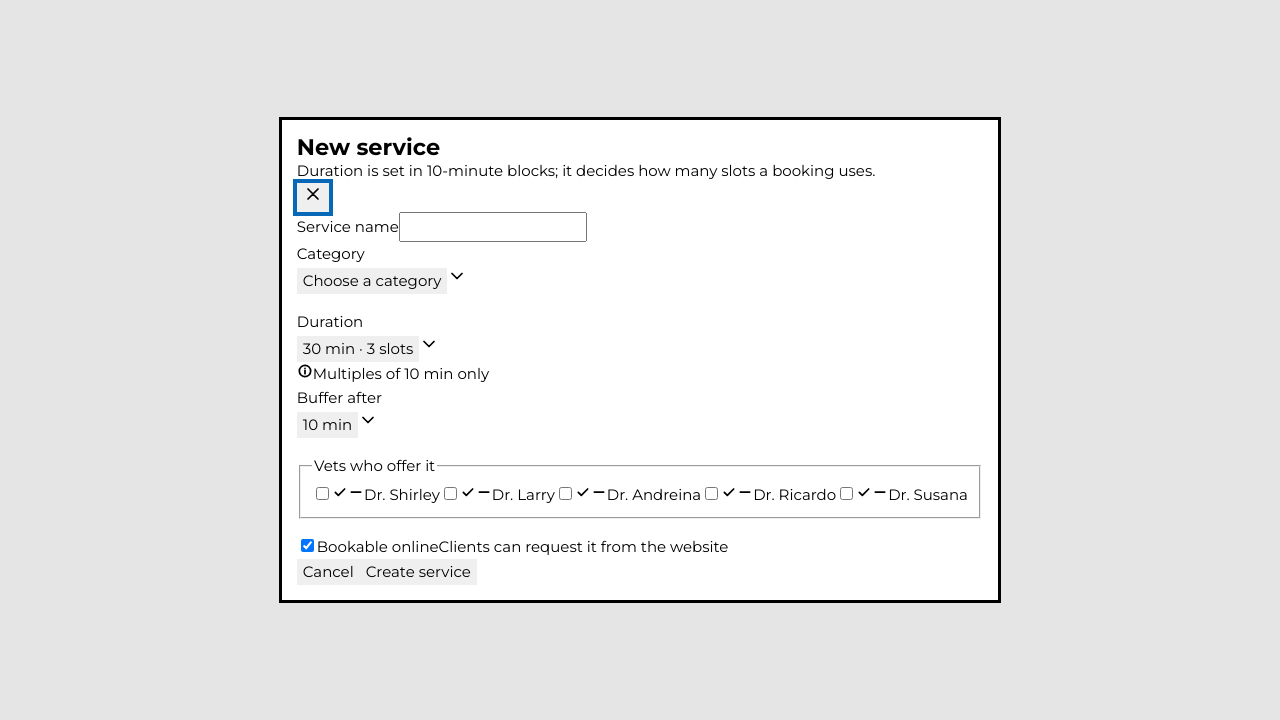
ServiceModal › asks for the name, the category and a vet
Click the button "Create service" at x=418, y=572, box [360,559,477,585]
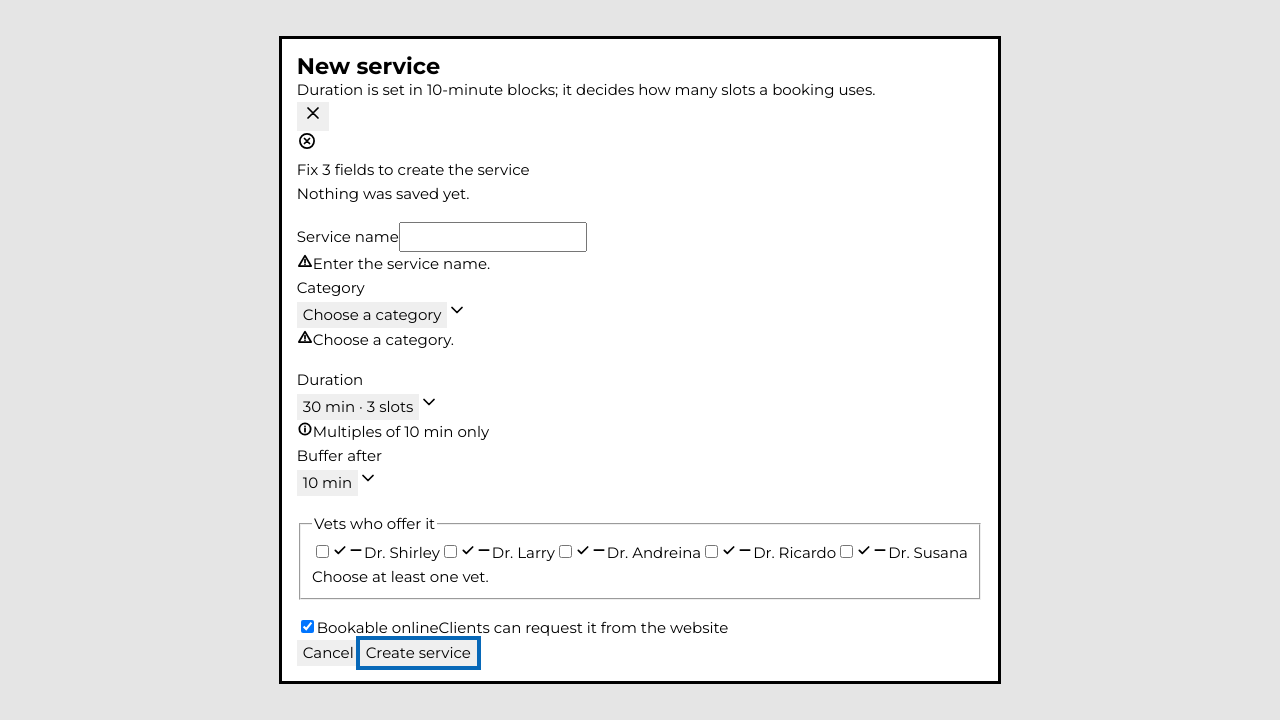
Expected: the message shows "Fix 3 fields to create the service", [297,160,530,179]
Expected: the text "Enter the service name." is shown, [313,254,490,273]
Expected: the text "Choose at least one vet." is shown, [312,567,489,586]
